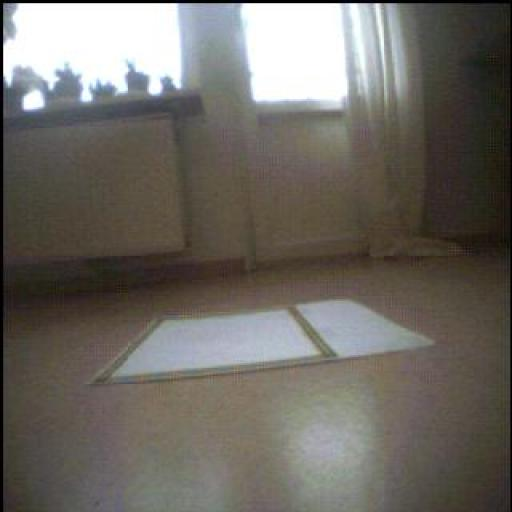Pad: (94, 302, 435, 385)
